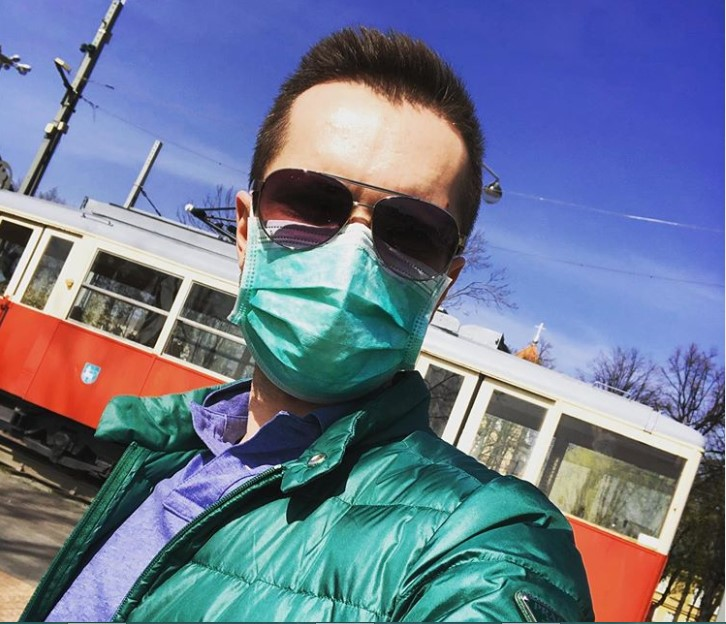face_with_mask: (234, 55, 490, 414)
